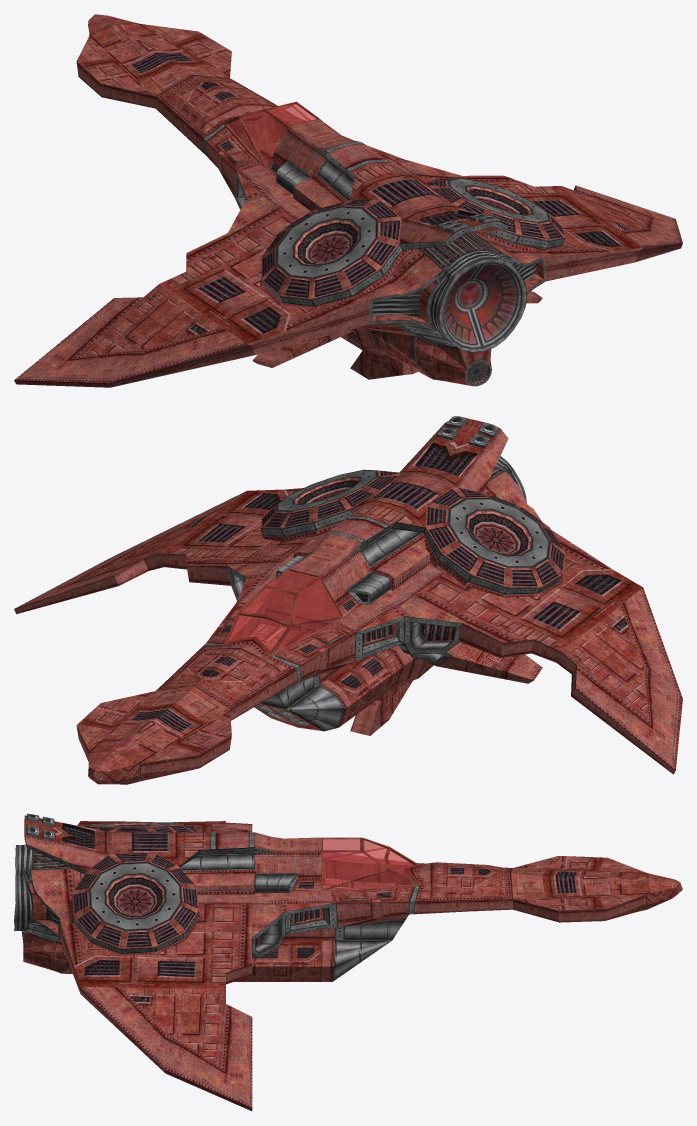
The model's file is Gungnir.obj.
3 views of the same model, one above another, from view 1: azimuth 30°, elevation 25°; view 2: azimuth 150°, elevation 25°; view 3: azimuth 270°, elevation 25° (orthographic). The views are drawn at different scales.
Visible parts, largest first — view 1: Rapier; view 2: Rapier; view 3: Rapier.
Boxes of the visible parts, x1,y1,x2,y2 form: Rapier: (14, 14, 682, 387); Rapier: (14, 416, 682, 784); Rapier: (14, 813, 682, 1110).
Size of the model in its own units: 16.58 by 5.49 by 16.95.
Materials: 5 (4 with a texture image).
